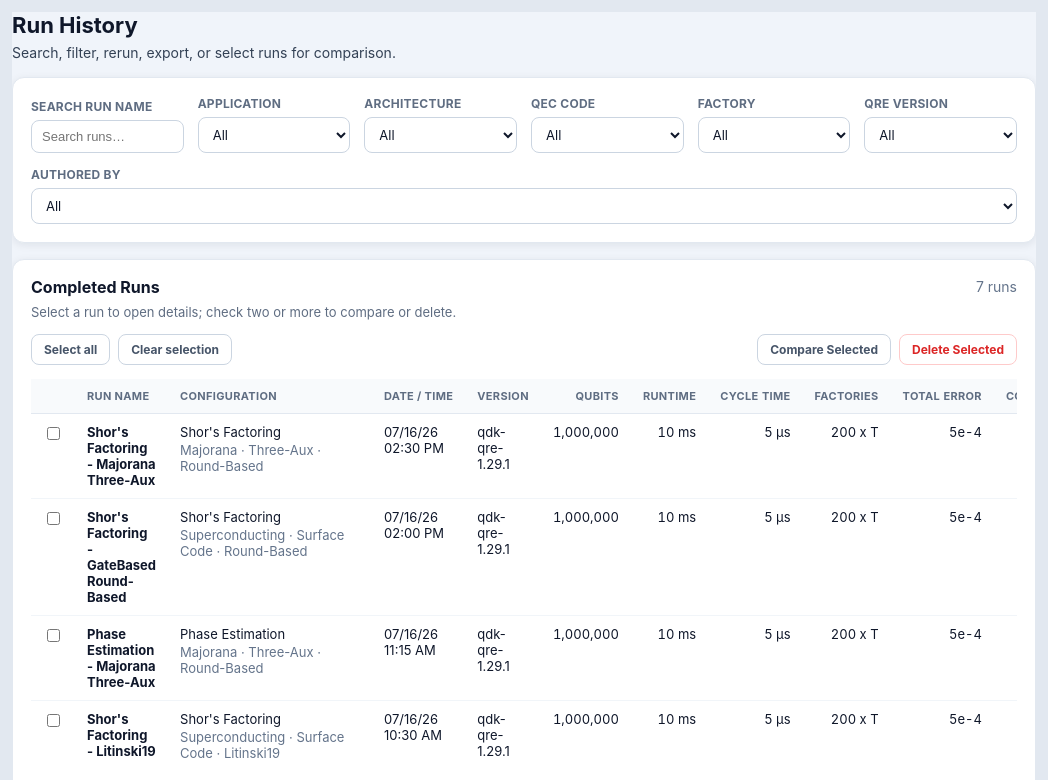
Test: Compare / Delete Selected popups › Compare Selected pops up with a single run ticked
The image size is (1048, 780).
Click the checkbox named "Select Shor's Factoring - Litinski19" at (54, 720), box [47,714,60,727]
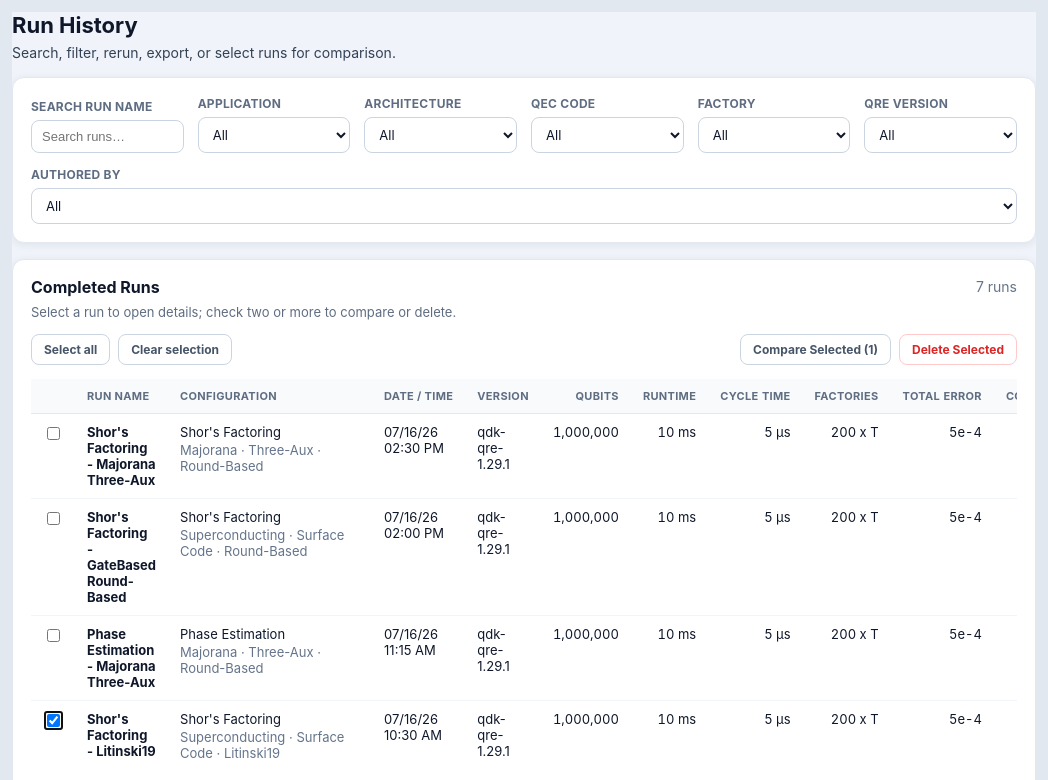
Click the button "Compare Selected (1)" at (816, 349), box [740,334,891,365]
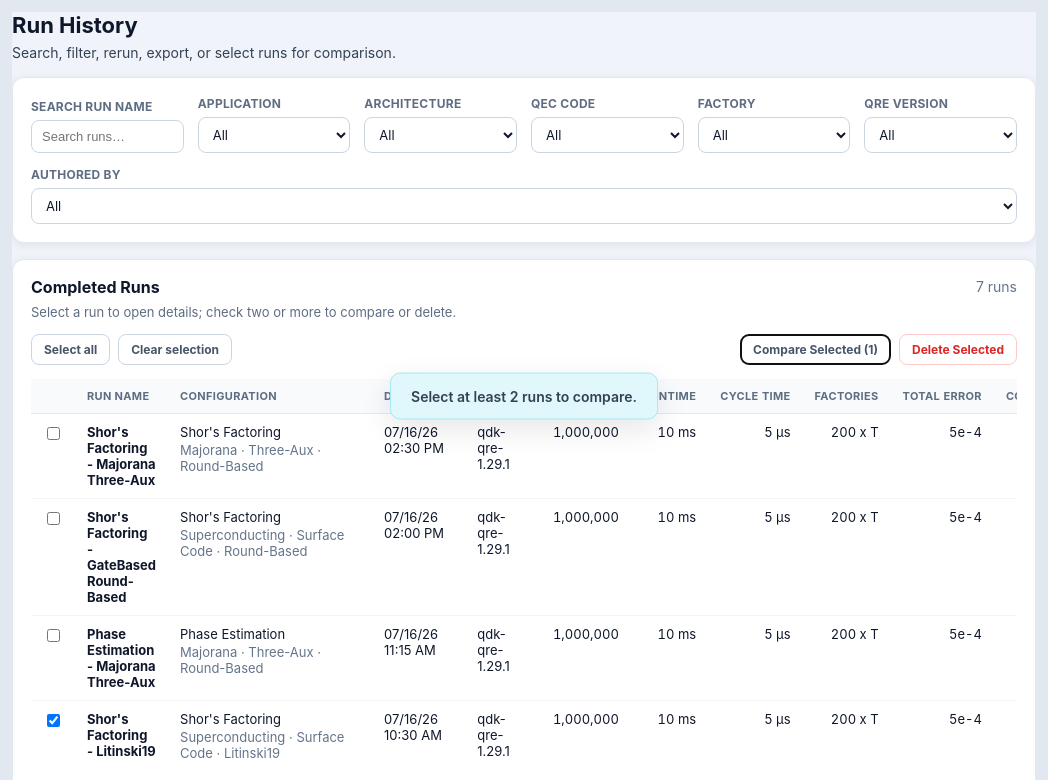
Result: the message reads "Select at least 2 runs to compare." at [411,388,637,404]
